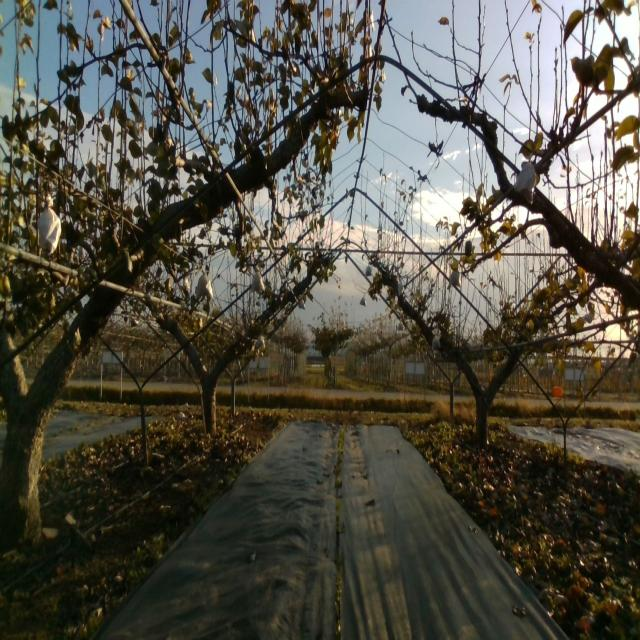pearbags: (37, 193, 61, 253), (514, 156, 536, 206), (196, 266, 212, 300), (249, 266, 266, 292), (447, 268, 461, 289)
